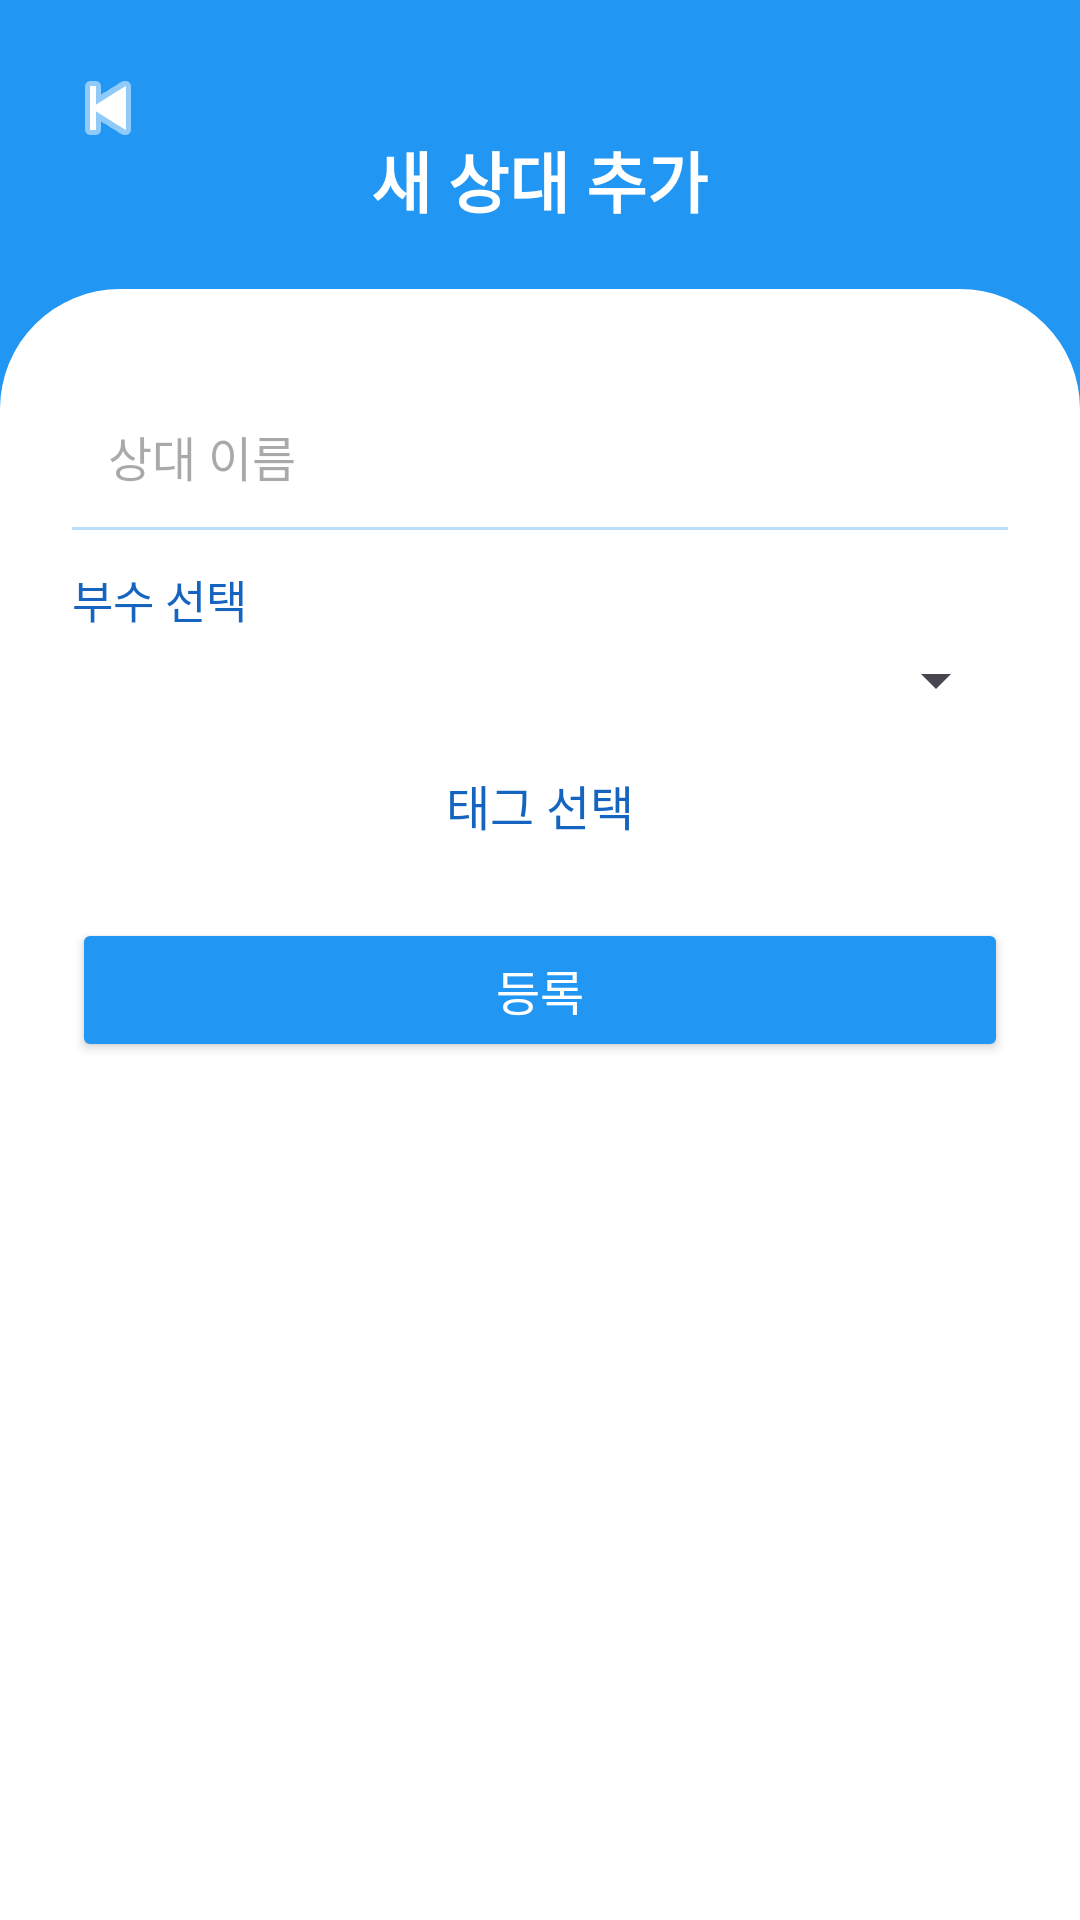

Icon click points for this 1080 x 1920 phone screenshot, format (x,y):
뒤로가기: (108,108)
